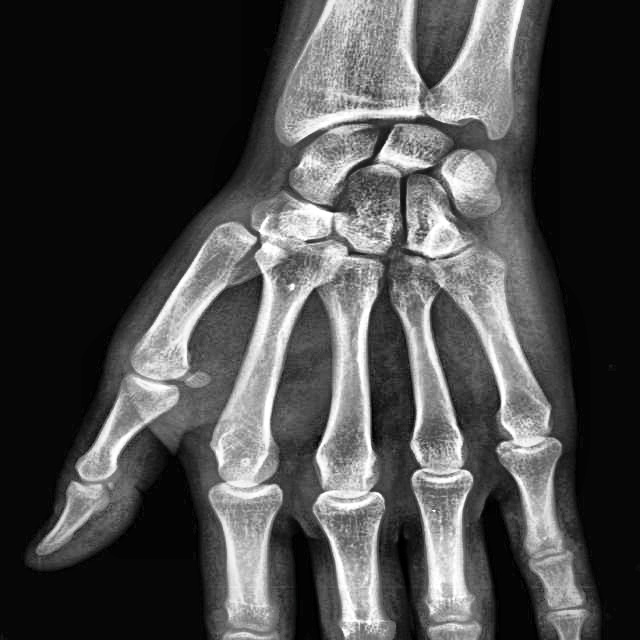Oblique: (195, 224, 291, 308)
